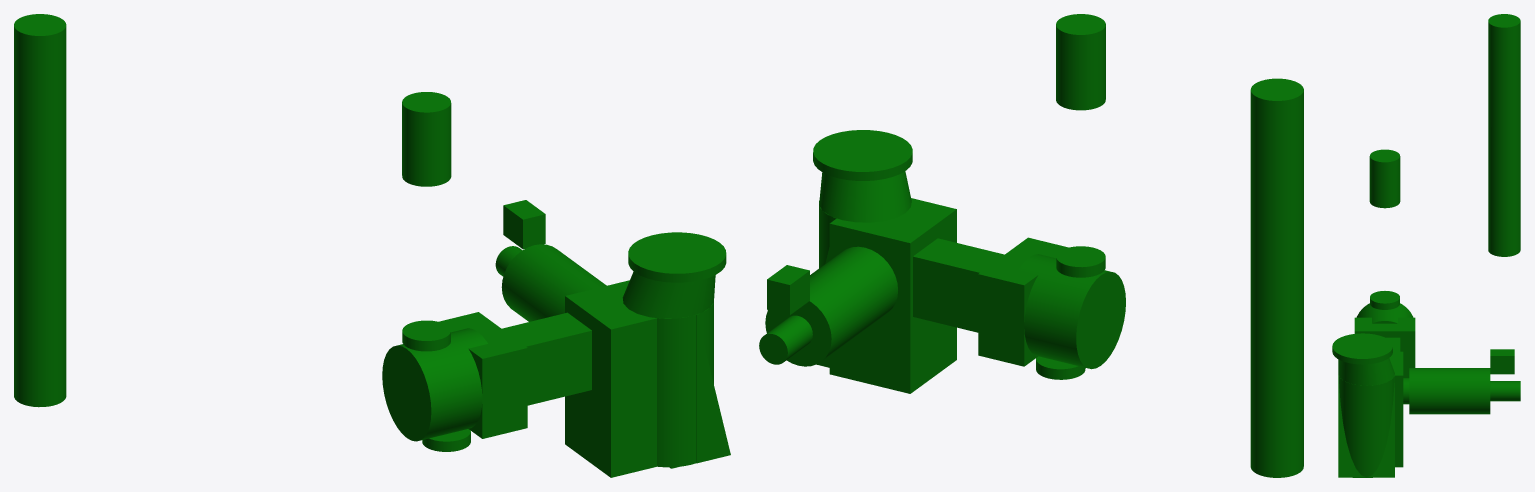
Rendered from Image-1710907555076-2281443618160_42-PF50A.fbx.
3 views of the same model, side by side, from view 1: azimuth 30°, elevation 25°; view 2: azimuth 150°, elevation 25°; view 3: azimuth 270°, elevation 25° (orthographic). The views are drawn at different scales.
Visible parts, largest first — view 1: CYLINDER 1 of SUBEQUIPMENT /SI-3602, BOX 1 of SUBEQUIPMENT /42-PF50A/PRIM, CYLINDER 6 of SUBEQUIPMENT /42-PF50A/PRIM, CYLINDER 1 of SUBEQUIPMENT /42-PF50A/PRIM, BOX 4 of SUBEQUIPMENT /42-PF50A/PRIM, BOX 3 of SUBEQUIPMENT /42-PF50A/PRIM, CYLINDER 4 of SUBEQUIPMENT /42-PF50A/PRIM, CYLINDER 1 of SUBEQUIPMENT /42-CX50A, CYLINDER 2 of SUBEQUIPMENT /42-PF50A/PRIM, SNOUT 1 of SUBEQUIPMENT /42-PF50A/PRIM, PYRAMID 1 of SUBEQUIPMENT /42-PF50A/PRIM, BOX 2 of SUBEQUIPMENT /42-PF50A/PRIM (+2 smaller); view 2: CYLINDER 1 of SUBEQUIPMENT /SI-3602, BOX 1 of SUBEQUIPMENT /42-PF50A/PRIM, CYLINDER 6 of SUBEQUIPMENT /42-PF50A/PRIM, CYLINDER 4 of SUBEQUIPMENT /42-PF50A/PRIM, BOX 4 of SUBEQUIPMENT /42-PF50A/PRIM, BOX 3 of SUBEQUIPMENT /42-PF50A/PRIM, CYLINDER 1 of SUBEQUIPMENT /42-CX50A, CYLINDER 2 of SUBEQUIPMENT /42-PF50A/PRIM, SNOUT 1 of SUBEQUIPMENT /42-PF50A/PRIM, BOX 2 of SUBEQUIPMENT /42-PF50A/PRIM, CYLINDER 5 of SUBEQUIPMENT /42-PF50A/PRIM, /42-PF50A/N2 (+2 smaller); view 3: CYLINDER 1 of SUBEQUIPMENT /SI-3602, CYLINDER 1 of SUBEQUIPMENT /42-PF50A/PRIM, CYLINDER 4 of SUBEQUIPMENT /42-PF50A/PRIM, CYLINDER 1 of SUBEQUIPMENT /42-CX50A, PYRAMID 1 of SUBEQUIPMENT /42-PF50A/PRIM, CYLINDER 2 of SUBEQUIPMENT /42-PF50A/PRIM, BOX 4 of SUBEQUIPMENT /42-PF50A/PRIM, SNOUT 1 of SUBEQUIPMENT /42-PF50A/PRIM, BOX 1 of SUBEQUIPMENT /42-PF50A/PRIM, CYLINDER 6 of SUBEQUIPMENT /42-PF50A/PRIM, CYLINDER 5 of SUBEQUIPMENT /42-PF50A/PRIM, BOX 2 of SUBEQUIPMENT /42-PF50A/PRIM (+1 smaller).
Part boxes in pixels (x1,y1,x2,y2): CYLINDER 1 of SUBEQUIPMENT /SI-3602: (14, 14, 66, 407); BOX 1 of SUBEQUIPMENT /42-PF50A/PRIM: (565, 280, 656, 477); CYLINDER 6 of SUBEQUIPMENT /42-PF50A/PRIM: (382, 328, 487, 441); CYLINDER 1 of SUBEQUIPMENT /42-PF50A/PRIM: (623, 301, 713, 467); BOX 4 of SUBEQUIPMENT /42-PF50A/PRIM: (439, 312, 527, 438); BOX 3 of SUBEQUIPMENT /42-PF50A/PRIM: (502, 312, 591, 405); CYLINDER 4 of SUBEQUIPMENT /42-PF50A/PRIM: (501, 244, 606, 321); CYLINDER 1 of SUBEQUIPMENT /42-CX50A: (402, 92, 451, 186); CYLINDER 2 of SUBEQUIPMENT /42-PF50A/PRIM: (628, 232, 726, 282); SNOUT 1 of SUBEQUIPMENT /42-PF50A/PRIM: (622, 271, 715, 318); PYRAMID 1 of SUBEQUIPMENT /42-PF50A/PRIM: (696, 315, 730, 463); BOX 2 of SUBEQUIPMENT /42-PF50A/PRIM: (503, 200, 545, 249); CYLINDER 1 of SUBEQUIPMENT /SI-3602: (1250, 78, 1303, 477); BOX 1 of SUBEQUIPMENT /42-PF50A/PRIM: (829, 198, 956, 393); CYLINDER 6 of SUBEQUIPMENT /42-PF50A/PRIM: (1018, 254, 1125, 369); CYLINDER 4 of SUBEQUIPMENT /42-PF50A/PRIM: (765, 246, 897, 366); BOX 4 of SUBEQUIPMENT /42-PF50A/PRIM: (978, 237, 1068, 366); BOX 3 of SUBEQUIPMENT /42-PF50A/PRIM: (913, 238, 1004, 332); CYLINDER 1 of SUBEQUIPMENT /42-CX50A: (1056, 14, 1105, 110); CYLINDER 2 of SUBEQUIPMENT /42-PF50A/PRIM: (813, 130, 912, 180); SNOUT 1 of SUBEQUIPMENT /42-PF50A/PRIM: (819, 171, 911, 222); BOX 2 of SUBEQUIPMENT /42-PF50A/PRIM: (767, 265, 809, 314); CYLINDER 5 of SUBEQUIPMENT /42-PF50A/PRIM: (759, 315, 812, 364); /42-PF50A/N2: (1056, 246, 1105, 277); CYLINDER 1 of SUBEQUIPMENT /SI-3602: (1488, 14, 1520, 256); CYLINDER 1 of SUBEQUIPMENT /42-PF50A/PRIM: (1338, 371, 1394, 477); CYLINDER 4 of SUBEQUIPMENT /42-PF50A/PRIM: (1409, 368, 1490, 414); CYLINDER 1 of SUBEQUIPMENT /42-CX50A: (1369, 149, 1400, 208); PYRAMID 1 of SUBEQUIPMENT /42-PF50A/PRIM: (1338, 375, 1394, 477); CYLINDER 2 of SUBEQUIPMENT /42-PF50A/PRIM: (1332, 333, 1392, 364); BOX 4 of SUBEQUIPMENT /42-PF50A/PRIM: (1354, 317, 1415, 377); SNOUT 1 of SUBEQUIPMENT /42-PF50A/PRIM: (1338, 358, 1394, 385); BOX 1 of SUBEQUIPMENT /42-PF50A/PRIM: (1389, 351, 1403, 467); CYLINDER 6 of SUBEQUIPMENT /42-PF50A/PRIM: (1356, 303, 1413, 323); CYLINDER 5 of SUBEQUIPMENT /42-PF50A/PRIM: (1490, 381, 1520, 401); BOX 2 of SUBEQUIPMENT /42-PF50A/PRIM: (1490, 349, 1514, 374).
Size of the model in its own units: 2.07 by 0.93 by 1.61.
